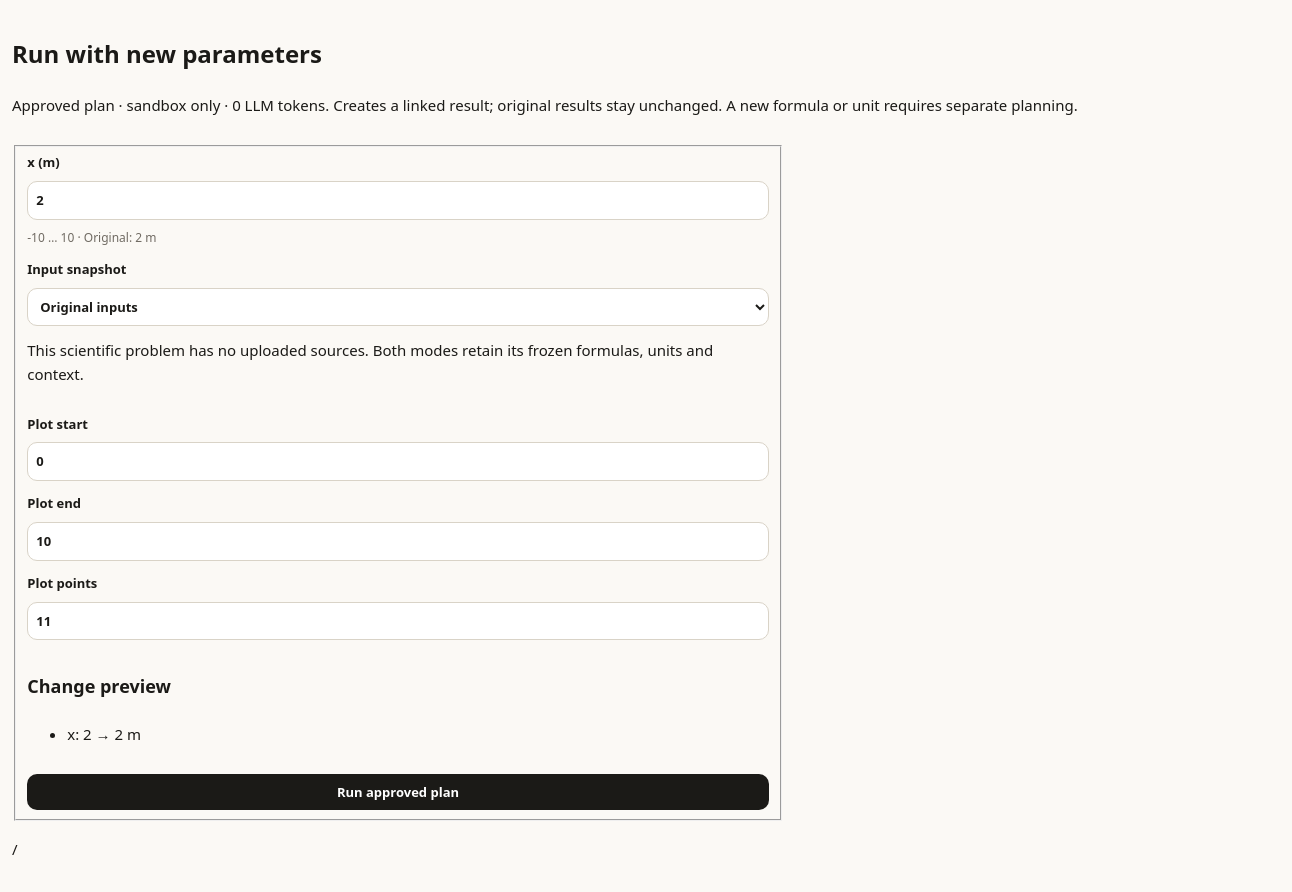
previews typed parameters/units and plot bounds, retaining one identity on network retry
Replace the text in the field labelled "x (m) -10 … 10 · Original: 2 m" with "3": (398, 200) [27,181,769,220]
Select "Newest inputs" in the dropdown labelled "Input snapshot": (398, 307) [27,288,769,326]
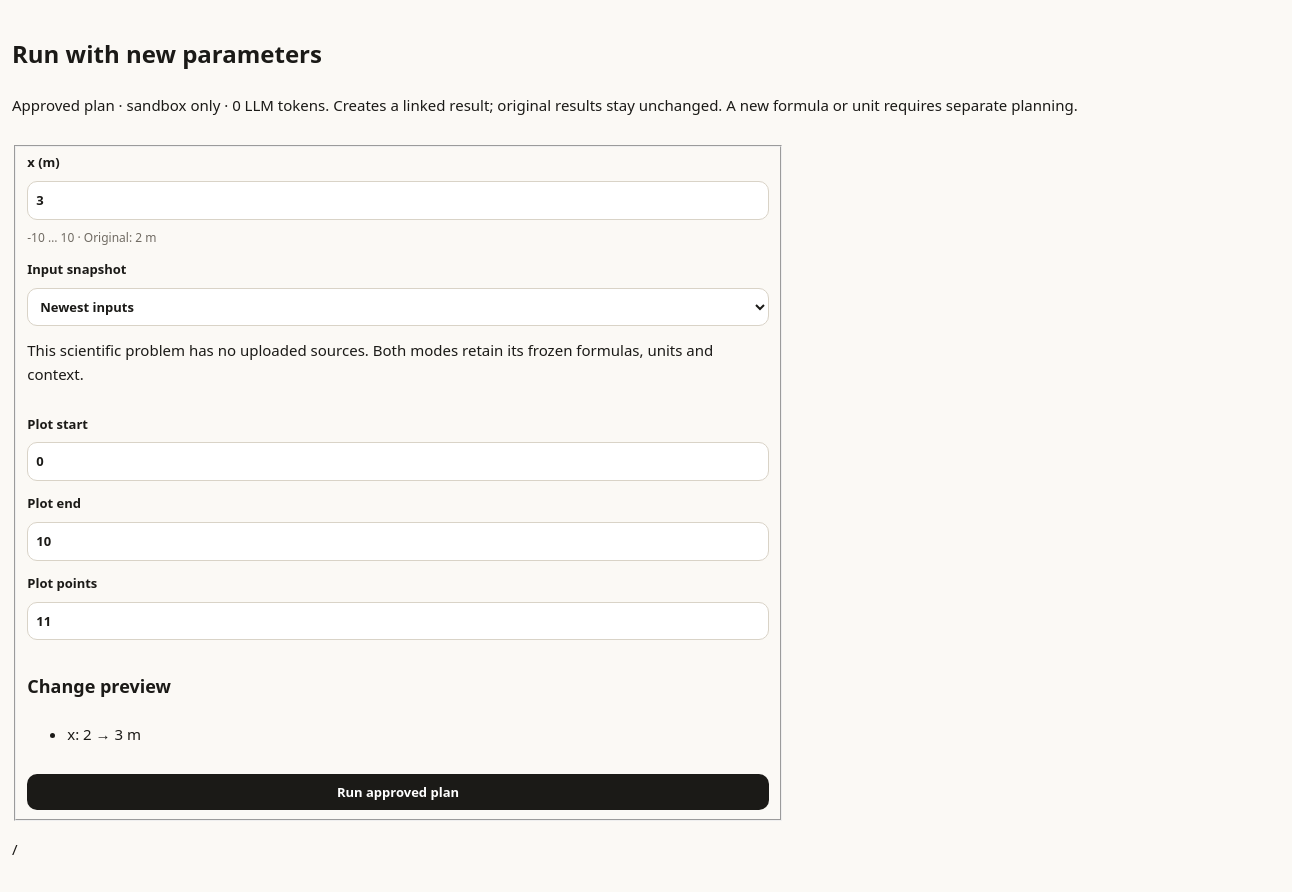
Replace the text in the field labelled "Plot start" with "1": (398, 462) [27,442,769,481]
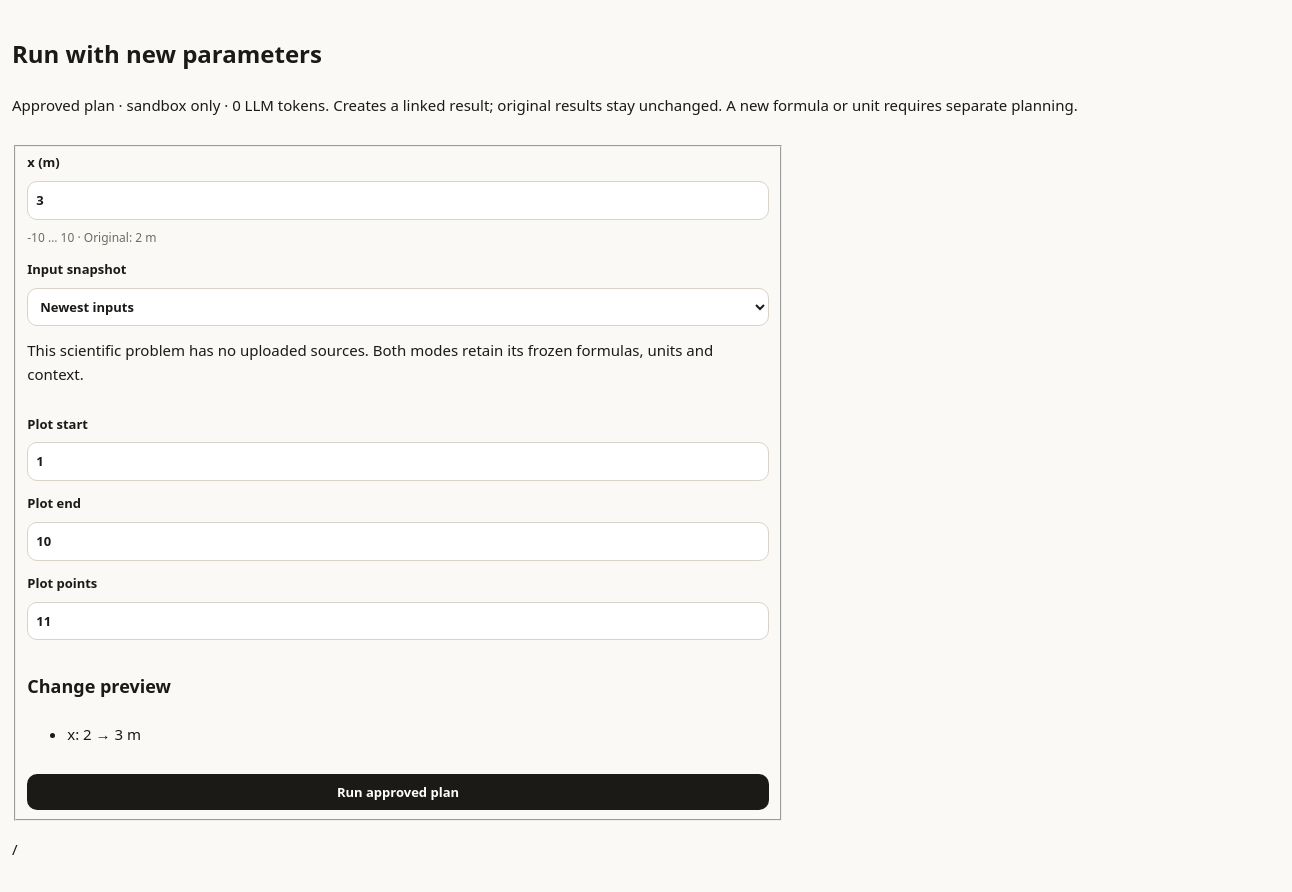
Replace the text in the field labelled "Plot end" with "5": (398, 541) [27,522,769,561]
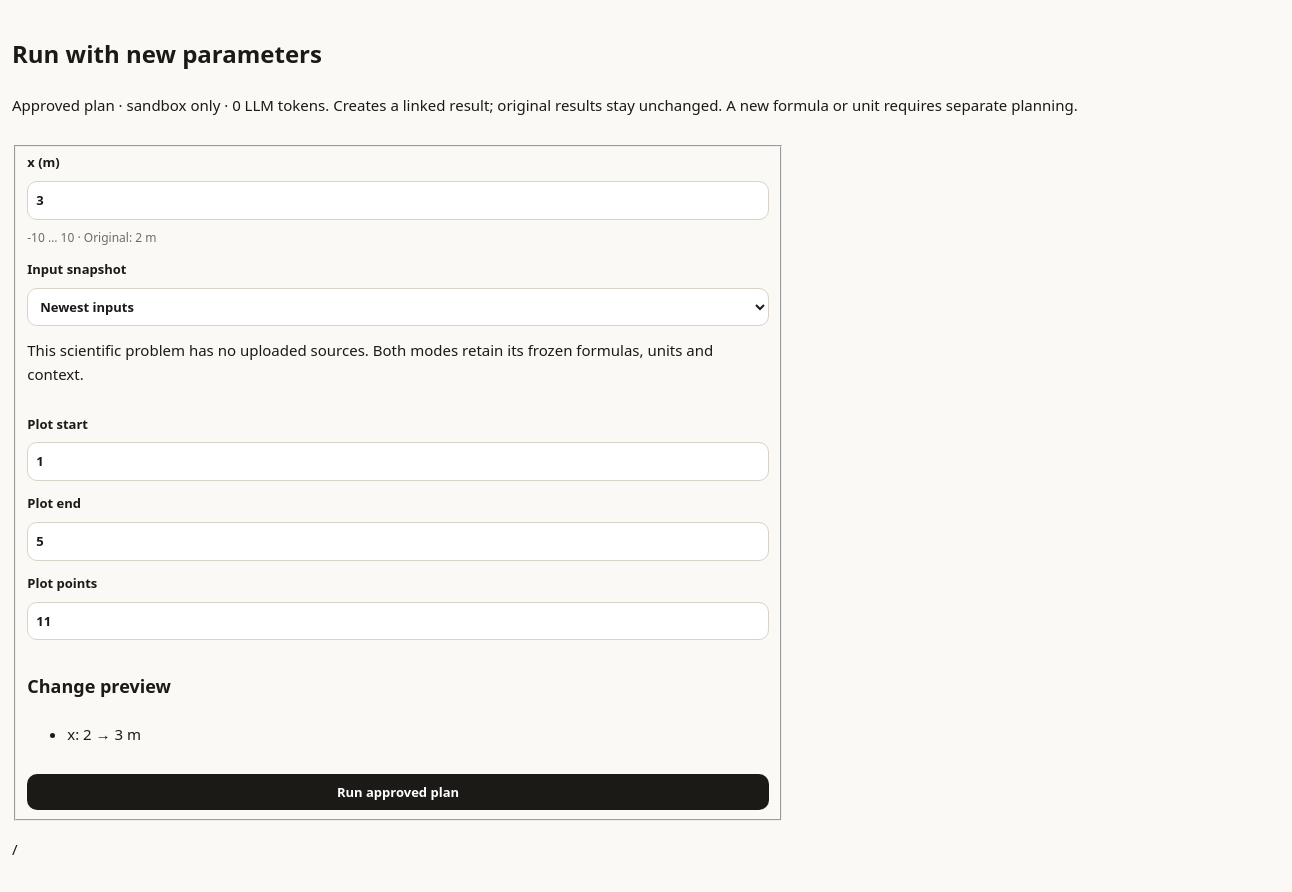
Replace the text in the number field labelled "Plot points" with "9": (398, 621) [27,602,769,640]
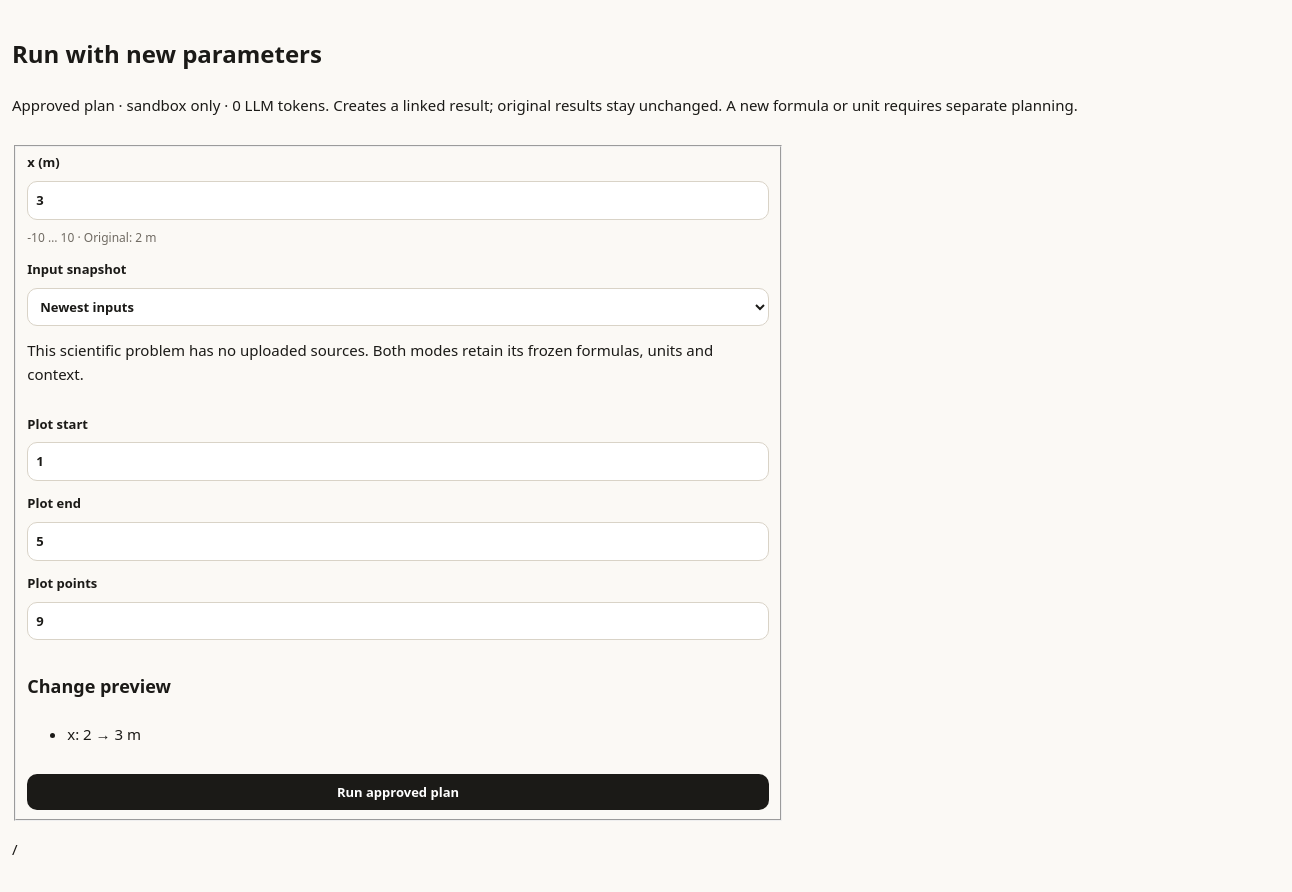
Result: the list item "x: 2 → 3 m" is shown at [67,724,141,744]
Click the button "Run approved plan": (398, 792) [27,774,769,810]
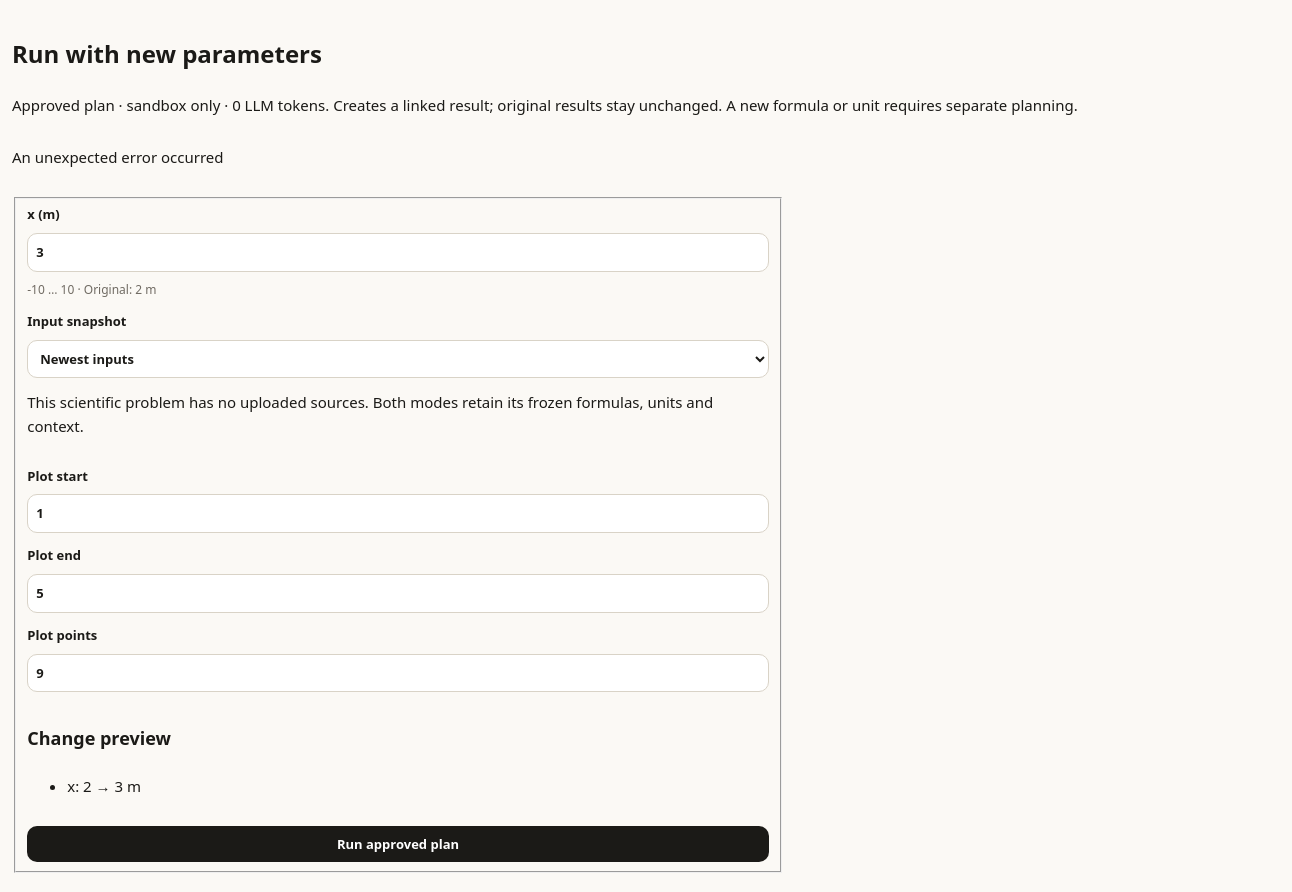
Result: the message "An unexpected error occurred" is shown at [12,147,224,167]
Click the button "Run approved plan": (398, 844) [27,826,769,862]
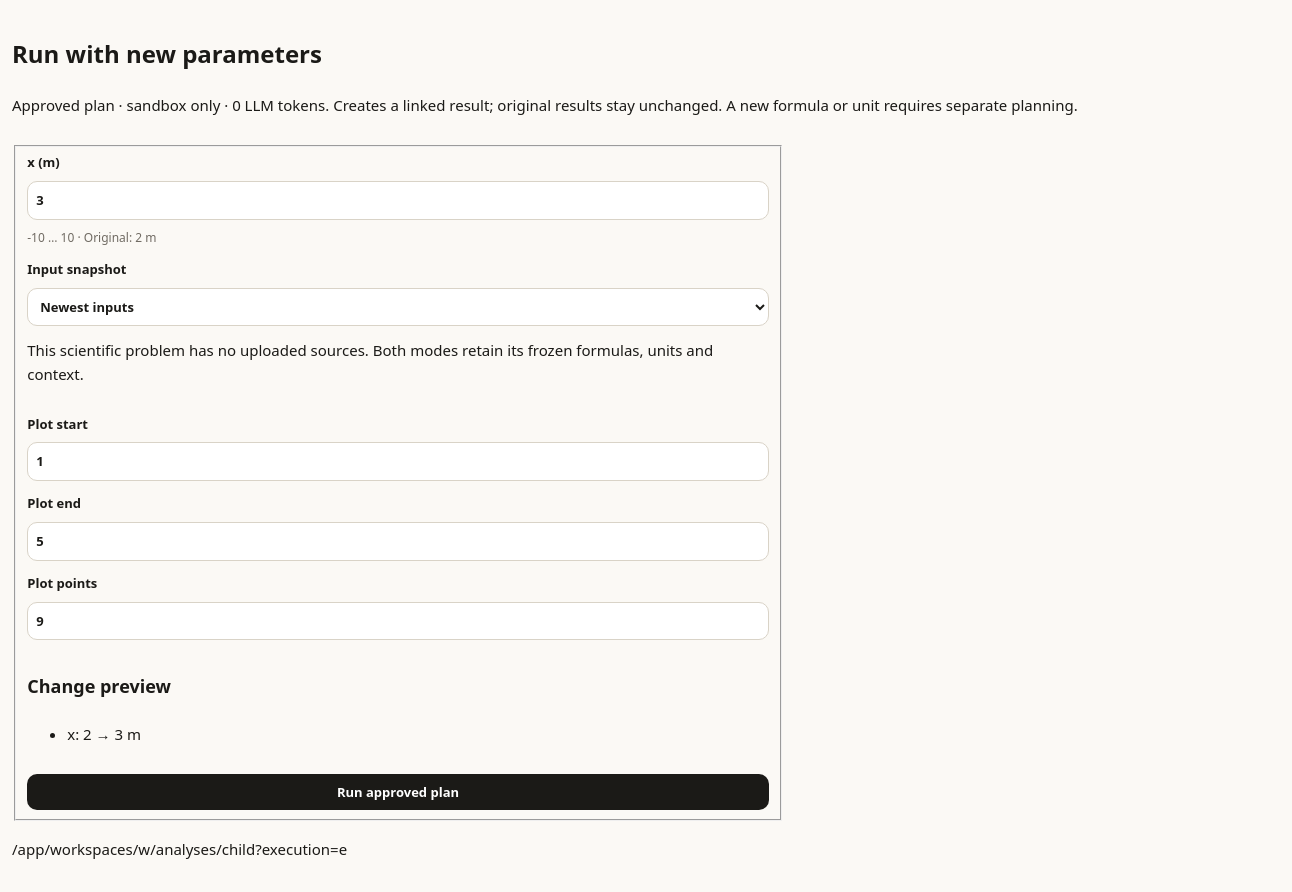
Result: the text "/app/workspaces/w/analyses/child?execution=e" is shown at [12,839,347,859]
